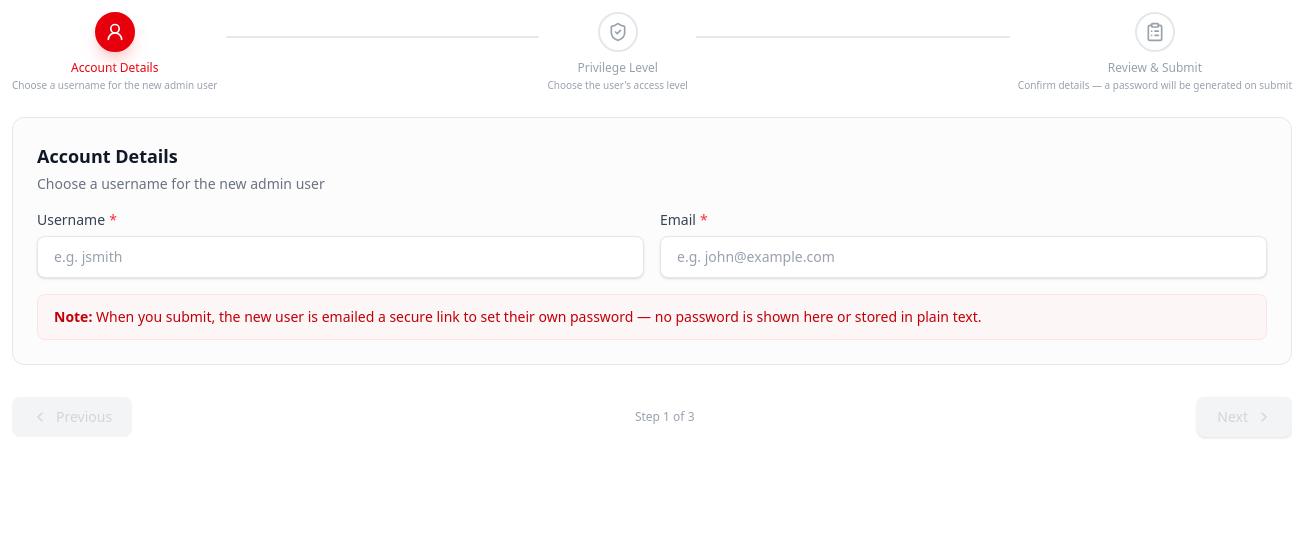
it: UserForm Component › Step 3 — Review & API Submission › submits the correct payload and confirms the user was created
This screenshot has width=1304, height=551.
In the field with placeholder "e.g. jsmith": (340, 257) x1=37 y1=236 x2=644 y2=278, type "testuser"
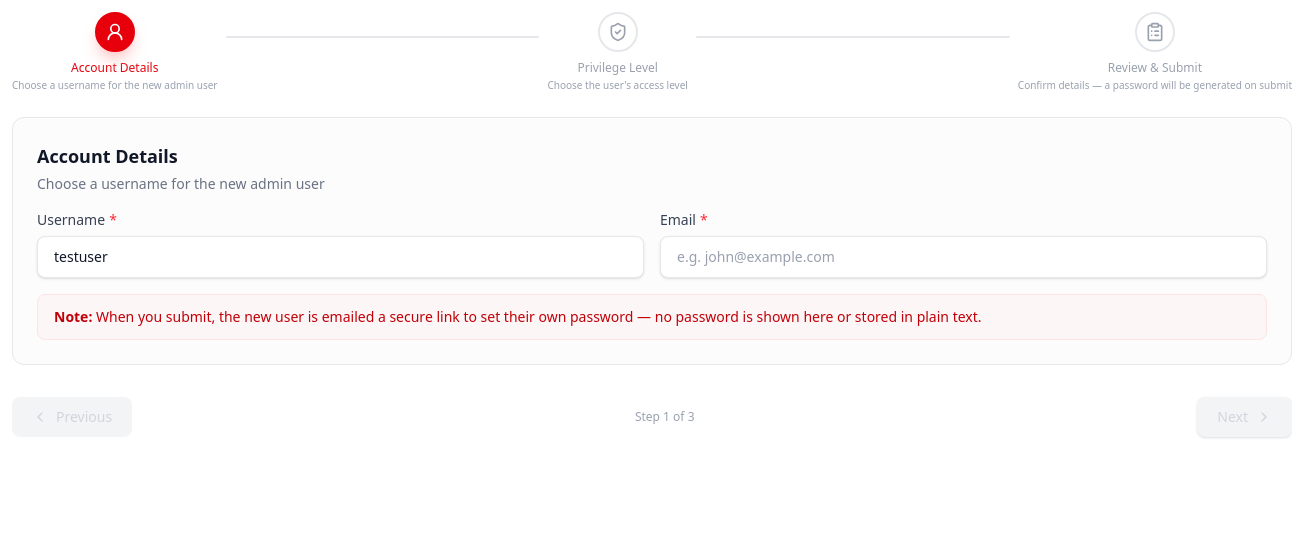
In the field with placeholder "e.g. john@example.com": (964, 257) x1=660 y1=236 x2=1267 y2=278, type "test@example.com"
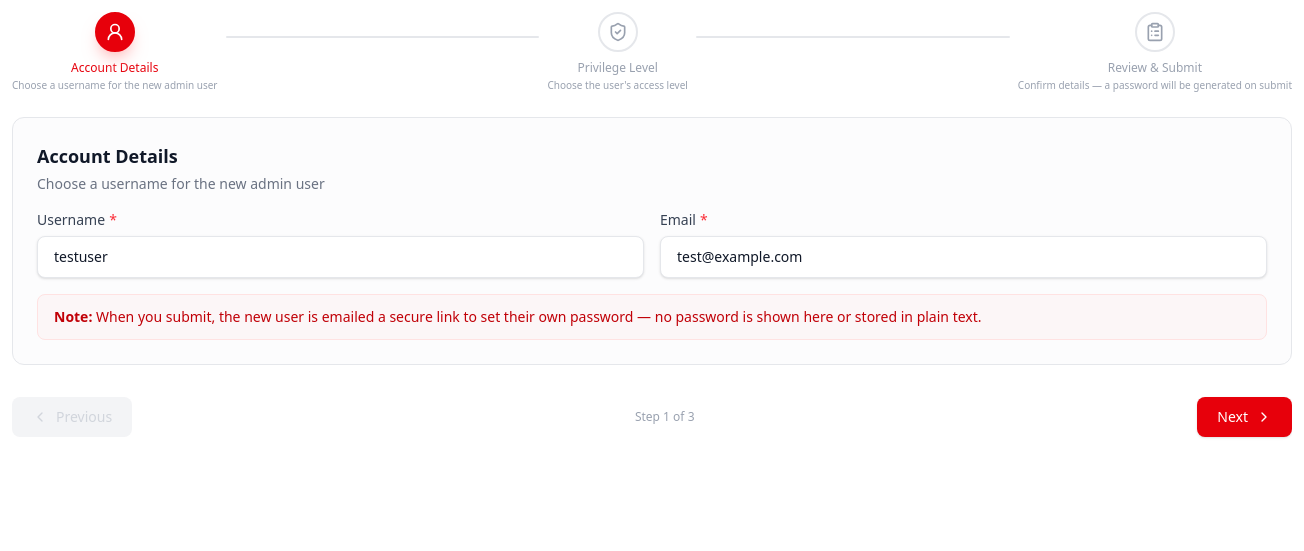
Click the button "Next": click(1245, 417) x1=1197 y1=397 x2=1292 y2=437
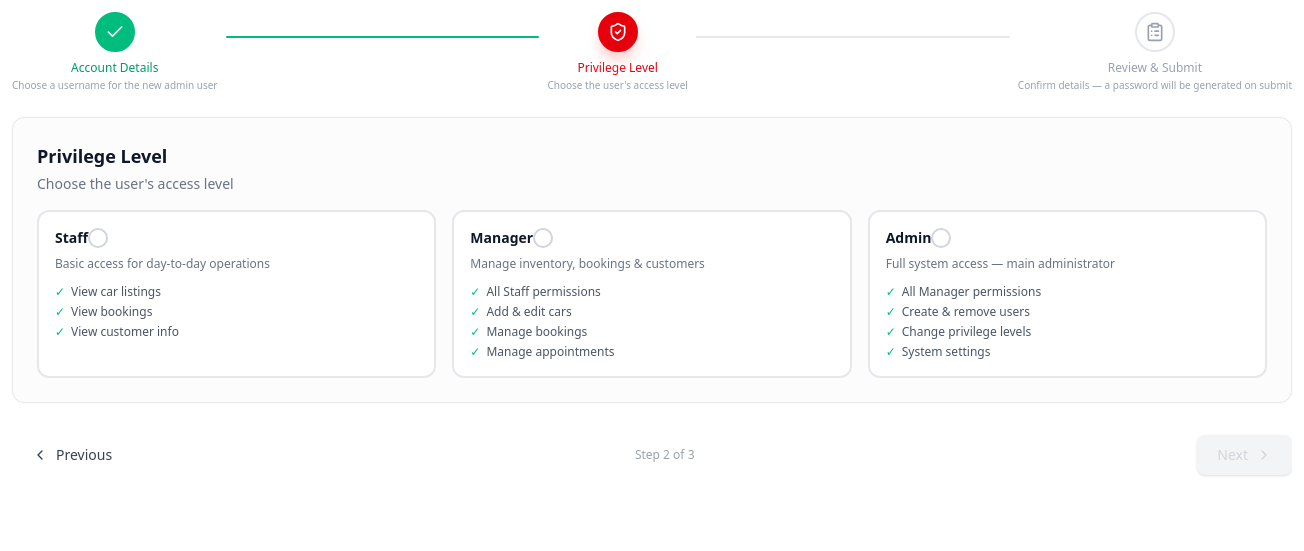
Click the text "Staff": click(72, 238) x1=55 y1=228 x2=88 y2=248
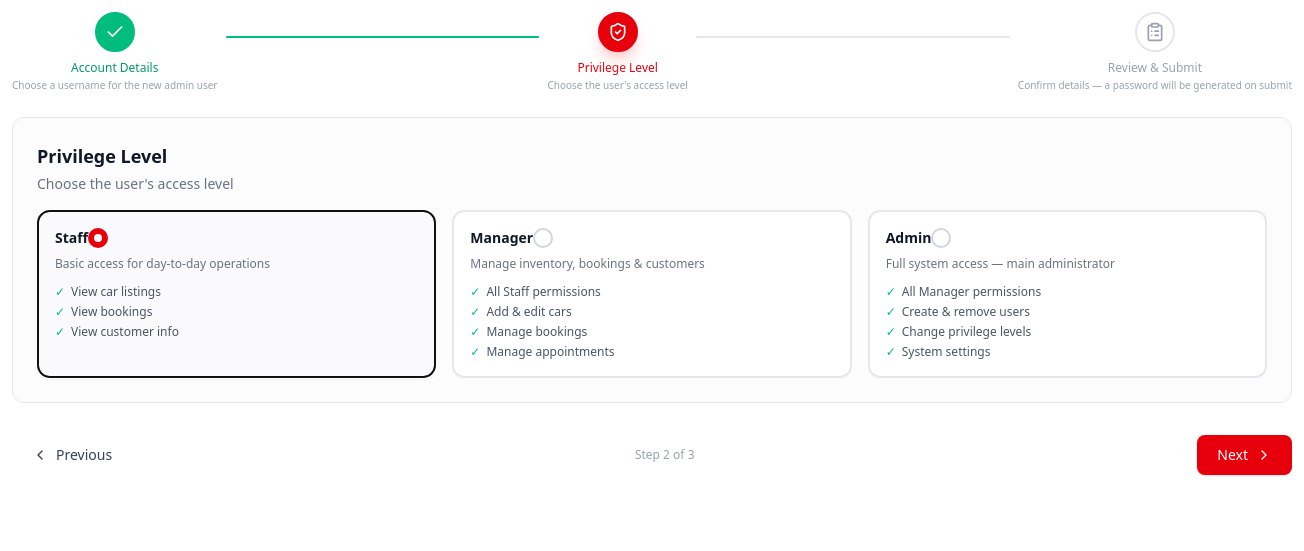
Click the button "Next": click(1245, 455) x1=1197 y1=435 x2=1292 y2=475
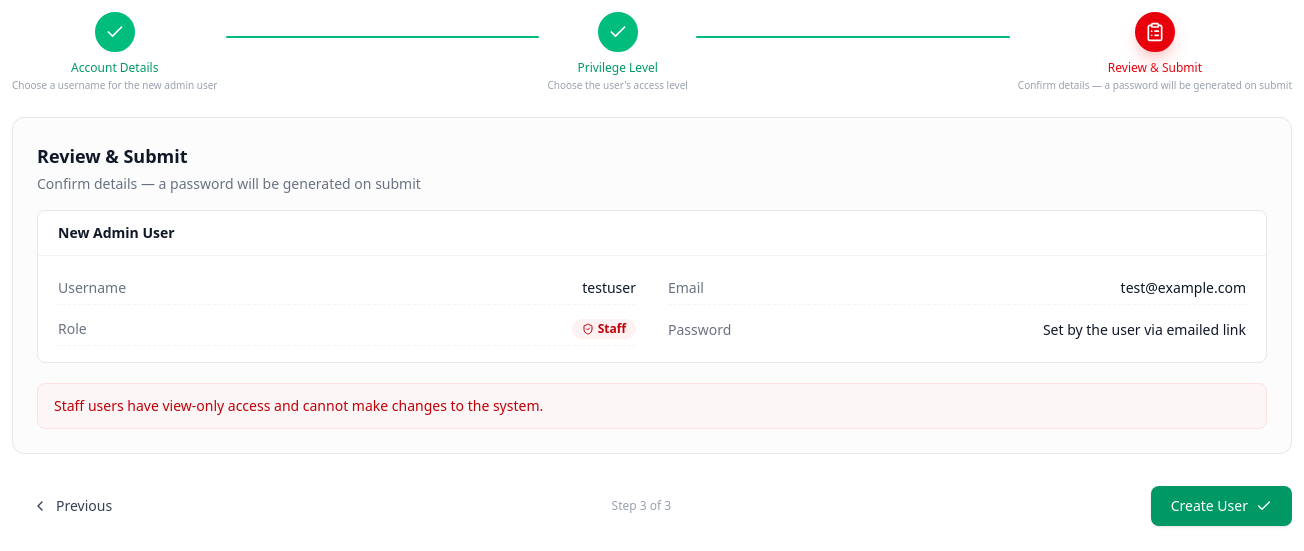
Click the button "Create User": click(1221, 506) x1=1151 y1=486 x2=1292 y2=526
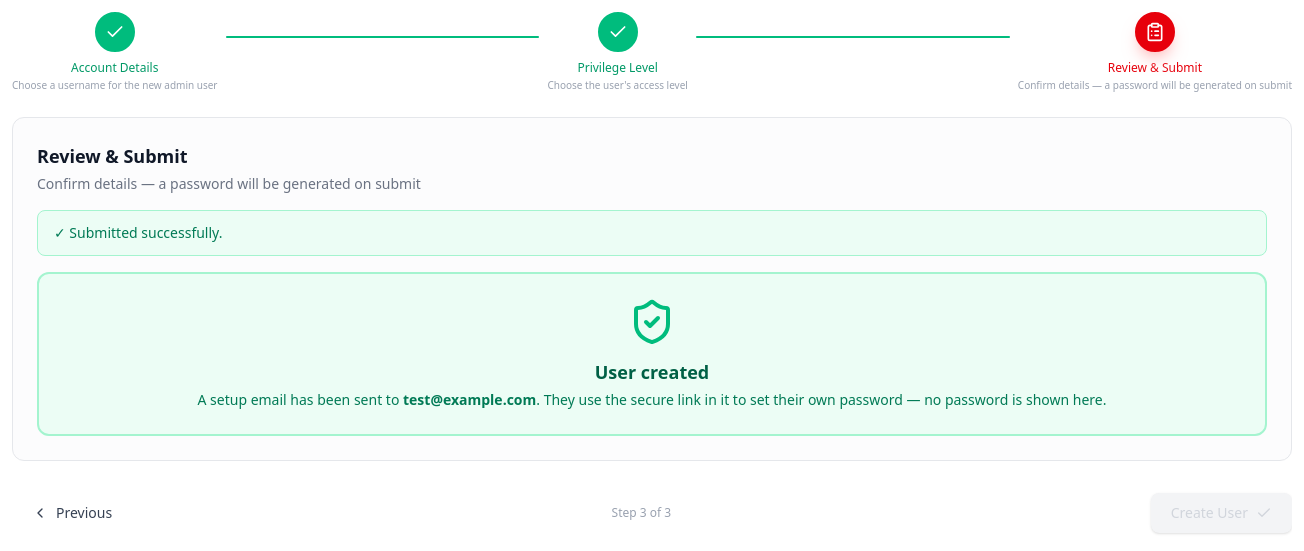
Now the heading "User created" is shown, box x1=595 y1=360 x2=709 y2=384
